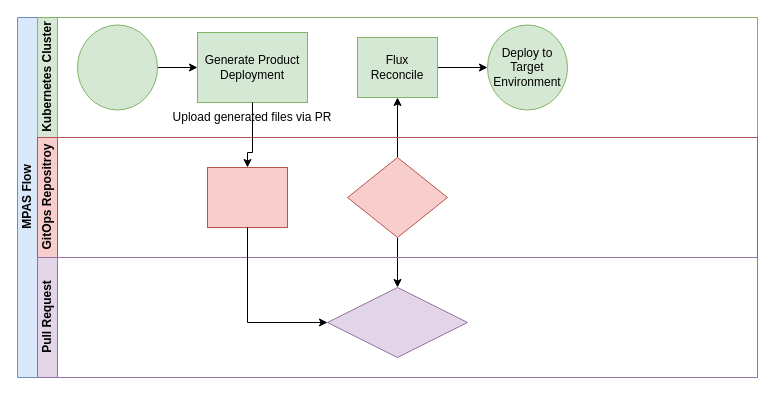
The diagram is 775 pixels wide and 395 high, and some of its shapes have lost their labels. Here are the shapes that lost their labels. From the top down, the centre of each, then its label:
At point 117,67: "Product Deployment Generator".
At point 247,197: "Pull Request is created".
At point 397,197: "New Objects appear".
At point 397,322: "Approve Pull Request".
